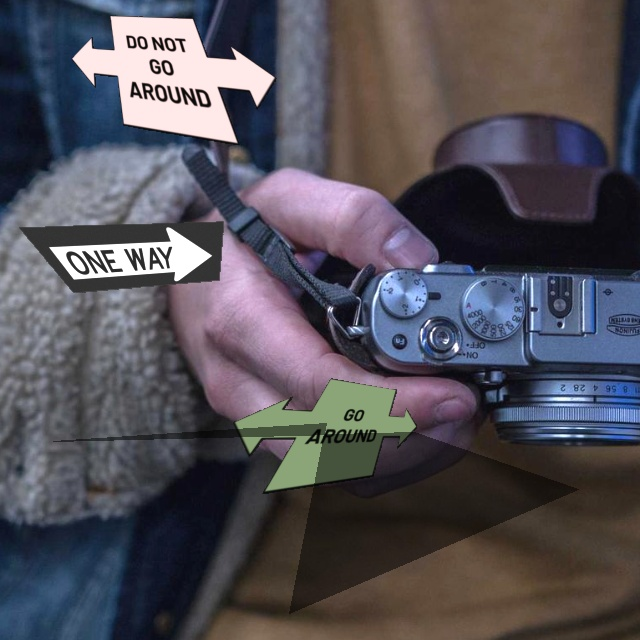DO_NOT_GO_AROUND: (71, 15, 277, 145)
GO_AROUND: (232, 378, 417, 494)
ONE_WAY_ right: (18, 221, 224, 293)
